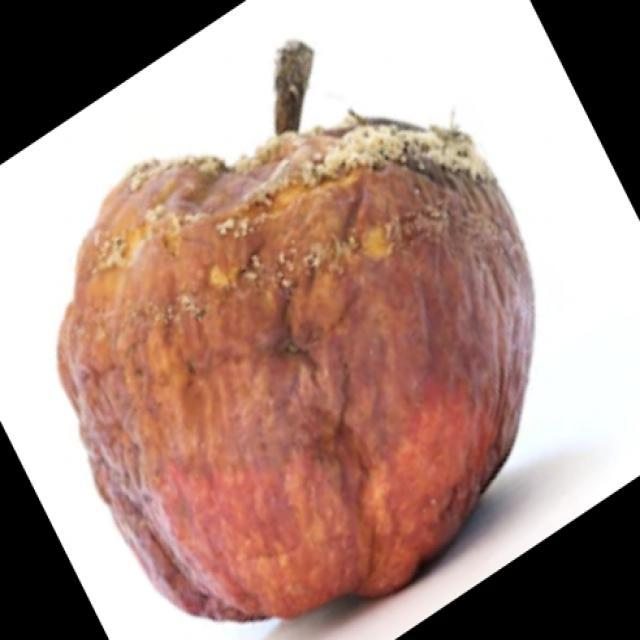Rotten: (94, 130, 534, 640)
